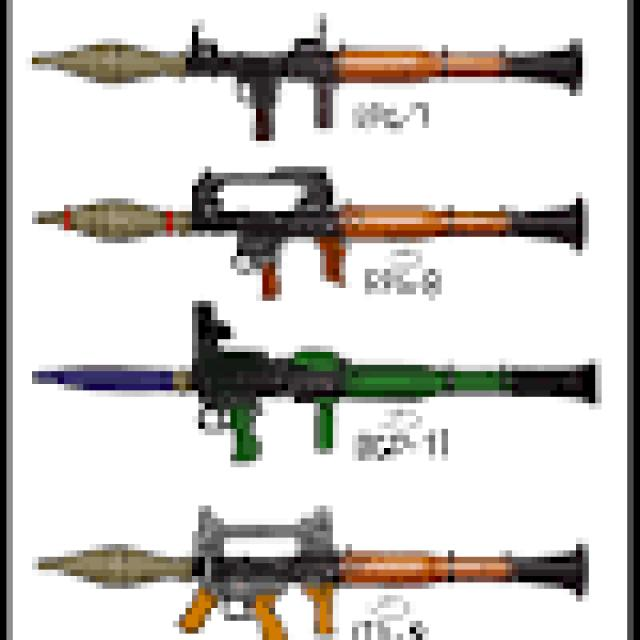Gun: (18, 303, 610, 494), (21, 149, 596, 307), (28, 499, 626, 640), (16, 11, 583, 156)
